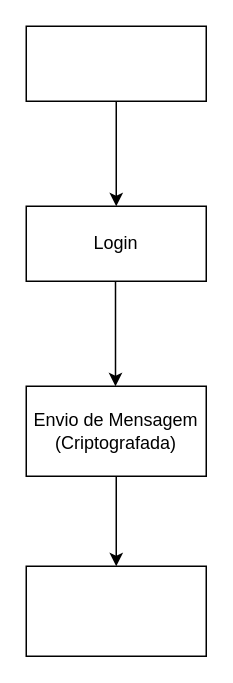
Image size: 233x683. Some labels were removed from this diagram. The centre of each missing label's shape, as x and y in pixels:
"Cadastro" belongs at (115,63).
"Descriptografia (Com chave RSA)" belongs at (115,610).
